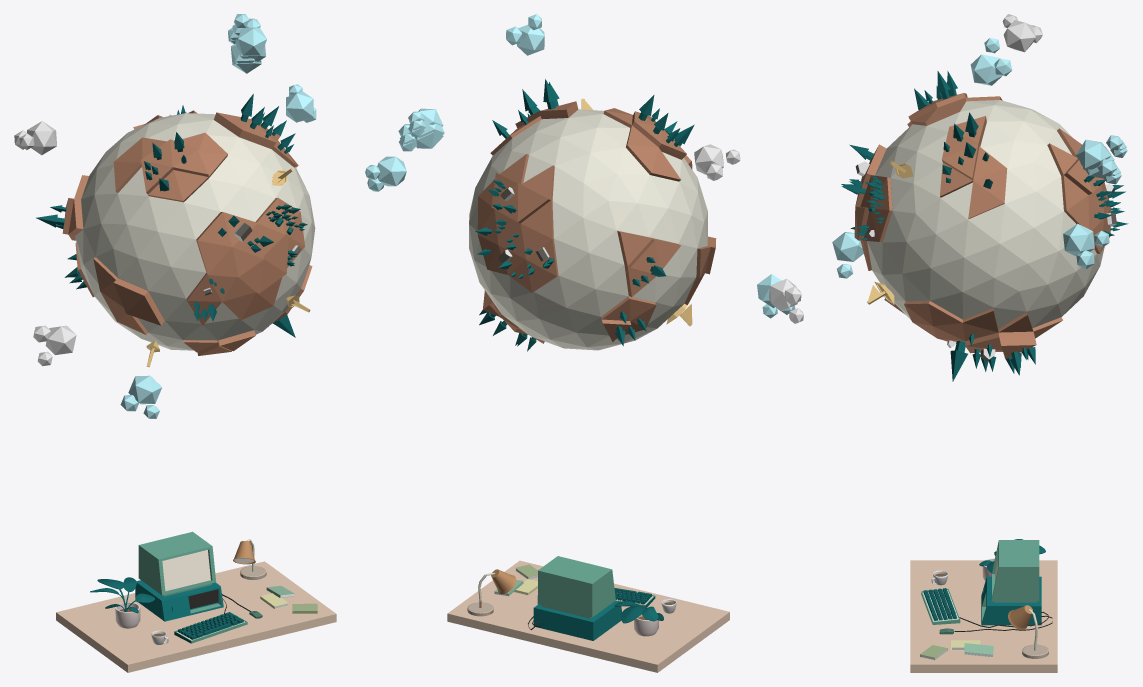
File: globetest7.glb
3 views of the same model, side by side, from view 1: azimuth 30°, elevation 25°; view 2: azimuth 150°, elevation 25°; view 3: azimuth 270°, elevation 25° (orthographic). The views are drawn at different scales.
Visible parts, largest first — view 1: Icosphere.001, Icosphere, Plane.003, Plane.004, Plane.079, Plane.001, tabletops.001, Plane.047, Icosphere.008, Icosphere.007, Icosphere.003, Cylinder.004 (+4 smaller); view 2: Icosphere.001, Icosphere, Plane.003, Plane.004, Plane.079, Plane.001, Icosphere.020, Icosphere.003, Icosphere.007, tabletops.001, Cylinder.004; view 3: Icosphere.001, Icosphere, Plane.003, Plane.079, Plane.004, Icosphere.020, Plane.001, Icosphere.003, Icosphere.007, Plane.047, Icosphere.008, Cylinder.004 (+3 smaller).
Part boxes in pixels (left/top/right/bottom): Icosphere.001: left=75, top=113, right=315, bottom=350; Icosphere: left=62, top=110, right=312, bottom=355; Plane.003: left=56, top=561, right=336, bottom=672; Plane.004: left=138, top=531, right=216, bottom=596; Plane.079: left=36, top=94, right=307, bottom=337; Plane.001: left=135, top=580, right=223, bottom=621; tabletops.001: left=90, top=577, right=154, bottom=628; Plane.047: left=174, top=612, right=247, bottom=643; Icosphere.008: left=120, top=375, right=162, bottom=418; Icosphere.007: left=234, top=14, right=266, bottom=55; Icosphere.003: left=286, top=84, right=316, bottom=122; Cylinder.004: left=233, top=539, right=266, bottom=579; Icosphere.001: left=469, top=109, right=707, bottom=350; Icosphere: left=477, top=101, right=716, bottom=343; Plane.003: left=447, top=560, right=729, bottom=672; Plane.004: left=537, top=556, right=615, bottom=618; Plane.079: left=475, top=79, right=694, bottom=351; Plane.001: left=533, top=601, right=622, bottom=640; Icosphere.020: left=398, top=108, right=444, bottom=151; Icosphere.003: left=365, top=156, right=406, bottom=191; Icosphere.007: left=506, top=14, right=544, bottom=55; tabletops.001: left=614, top=600, right=663, bottom=636; Cylinder.004: left=467, top=569, right=516, bottom=616; Icosphere.001: left=867, top=100, right=1104, bottom=328; Icosphere: left=854, top=93, right=1110, bottom=359; Plane.003: left=910, top=560, right=1057, bottom=672; Plane.079: left=841, top=71, right=1128, bottom=381; Plane.004: left=991, top=540, right=1039, bottom=602; Icosphere.020: left=1076, top=135, right=1127, bottom=184; Plane.001: left=981, top=576, right=1041, bottom=625; Icosphere.003: left=1063, top=223, right=1109, bottom=269; Icosphere.007: left=970, top=38, right=1012, bottom=85; Plane.047: left=921, top=588, right=960, bottom=624; Icosphere.008: left=832, top=232, right=863, bottom=278; Cylinder.004: left=1008, top=605, right=1048, bottom=658.
Bounding box in the file's own units: 3.49 × 5.54 × 2.45.
